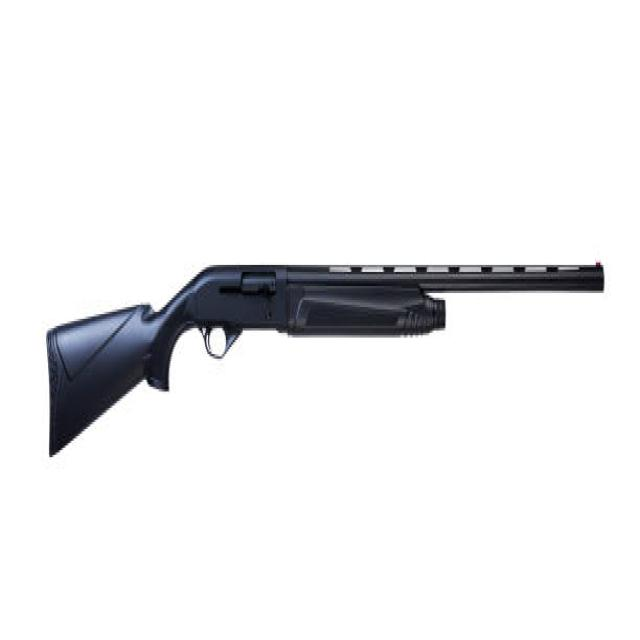rifle: (41, 252, 610, 469)
